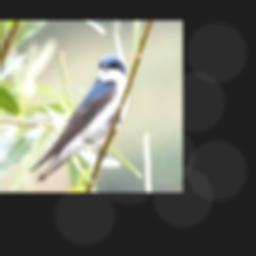Swallow: (28, 54, 129, 181)
